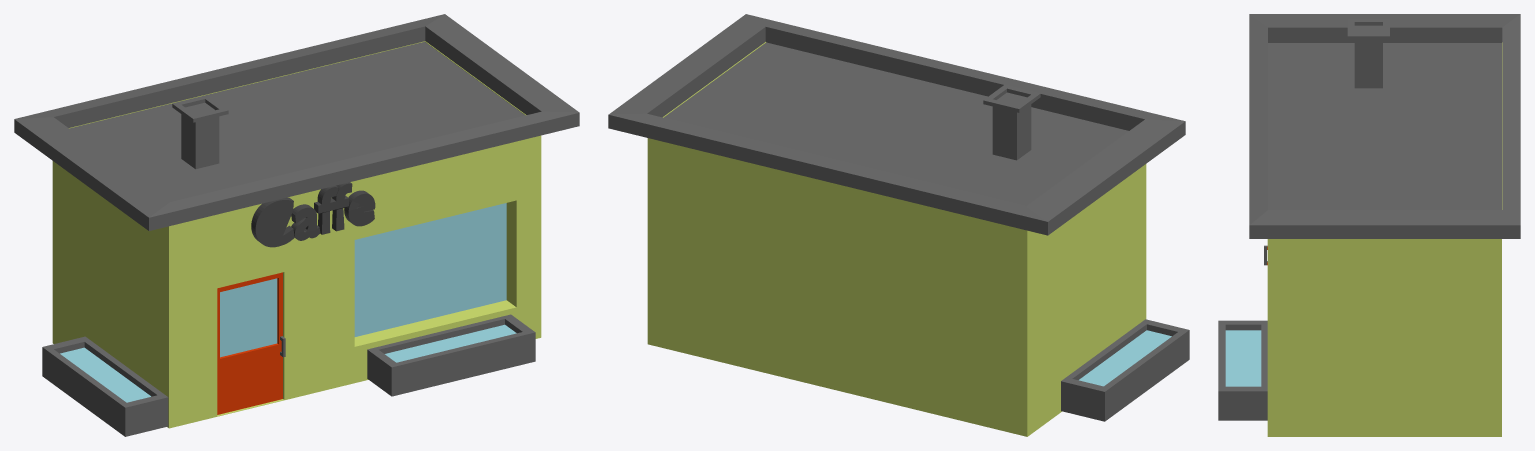
The model's file is PizzaShop.fbx.
The picture shows the model from 3 angles, left to right: view 1: azimuth 30°, elevation 25°; view 2: azimuth 150°, elevation 25°; view 3: azimuth 270°, elevation 25°; orthographic projection. The views are drawn at different scales.
Visible parts, largest first — view 1: Cube, Cube.003, Cube.004, Cube.006, Text, Cube.005; view 2: Cube, Cube.006, Cube.005; view 3: Cube, Cube.003, Cube.005.
Boxes of the visible parts, box(x1,y1,x2,y2) form: Cube: box(14, 14, 579, 428); Cube.003: box(367, 314, 535, 396); Cube.004: box(217, 272, 285, 414); Cube.006: box(42, 336, 168, 436); Text: box(251, 182, 375, 247); Cube.005: box(172, 95, 228, 169); Cube: box(608, 14, 1185, 436); Cube.006: box(1061, 319, 1189, 421); Cube.005: box(983, 84, 1040, 160); Cube: box(1249, 14, 1520, 436); Cube.003: box(1218, 320, 1267, 420); Cube.005: box(1347, 19, 1389, 88).
Bounding box in the file's own units: 1321 × 753 × 773.
